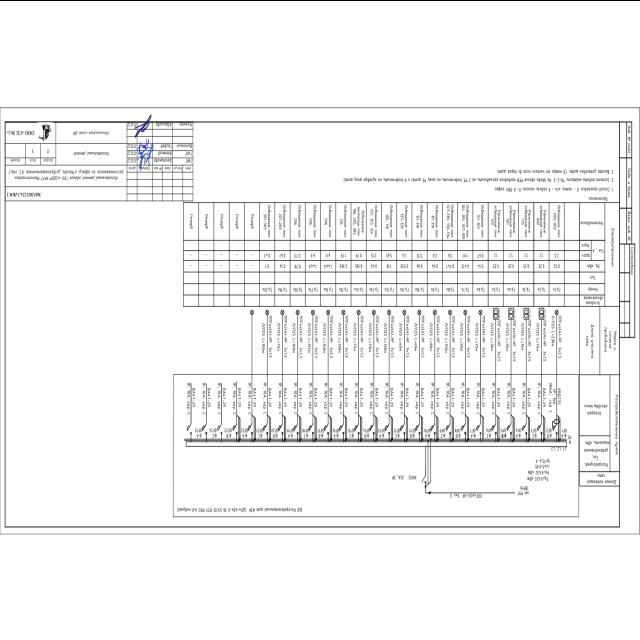-: (176, 504, 246, 512), (548, 381, 562, 413), (538, 379, 548, 415), (262, 381, 272, 414), (354, 381, 364, 414), (369, 381, 379, 414), (476, 381, 486, 414), (460, 381, 470, 414), (491, 381, 501, 414), (506, 381, 516, 414), (414, 381, 424, 414), (521, 381, 531, 414), (384, 381, 394, 414), (186, 381, 196, 414), (216, 381, 226, 414), (202, 381, 212, 414), (293, 381, 303, 414), (399, 381, 409, 414), (323, 381, 333, 414), (247, 381, 257, 414), (278, 381, 288, 414), (430, 381, 440, 414), (445, 381, 455, 414), (232, 382, 242, 414), (338, 382, 348, 414), (308, 382, 318, 414), (391, 473, 416, 480)
QF: (232, 422, 238, 435), (218, 421, 224, 434), (186, 421, 192, 434), (308, 421, 314, 434), (323, 422, 329, 435), (339, 421, 345, 434), (354, 421, 360, 434), (369, 422, 375, 435), (400, 422, 406, 435), (461, 421, 467, 434), (476, 422, 482, 435), (492, 421, 498, 434), (278, 422, 284, 434), (202, 422, 208, 434), (247, 422, 253, 434), (262, 422, 268, 434), (293, 422, 299, 434), (385, 422, 391, 434), (415, 422, 421, 434), (446, 422, 452, 434), (522, 422, 528, 434), (537, 422, 543, 434), (507, 422, 512, 435), (431, 422, 436, 434)
QFD: (551, 417, 561, 434)
QS: (421, 474, 426, 483)
